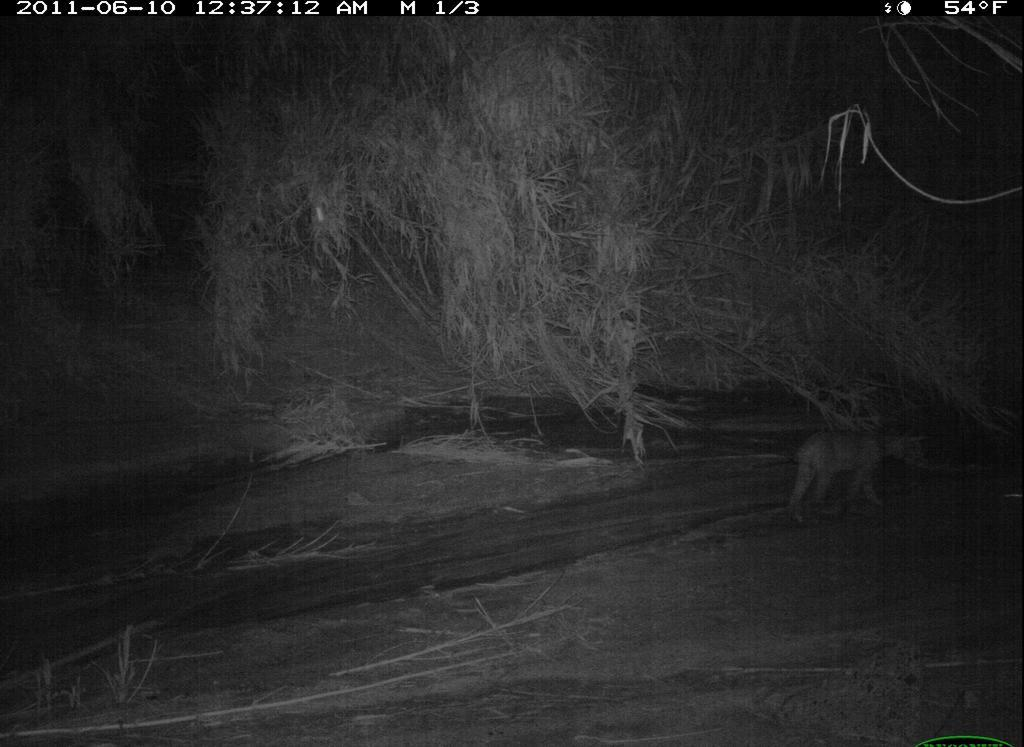bobcat: (771, 418, 936, 528)
